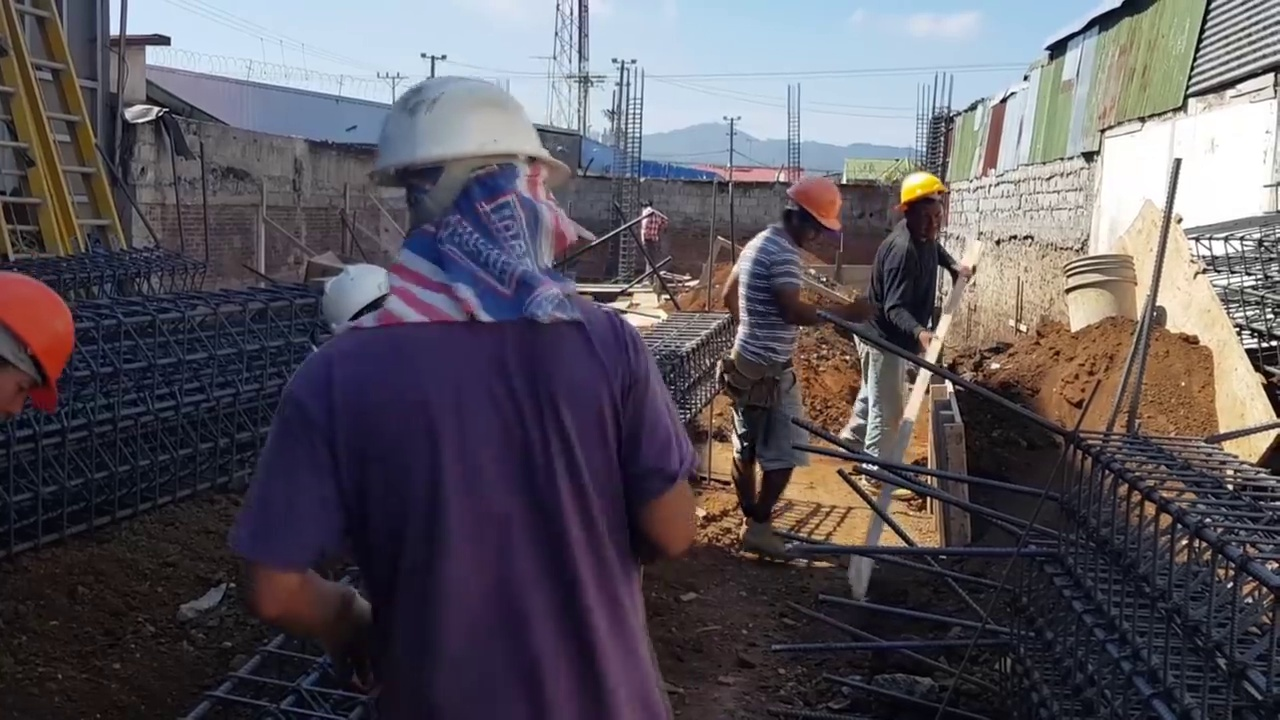helmet: (363, 73, 576, 185), (4, 279, 87, 409), (315, 262, 394, 332), (785, 174, 846, 233), (894, 173, 948, 206)
helmet-off: (641, 200, 654, 210)
helmet-on: (363, 75, 579, 311), (784, 172, 846, 255), (894, 173, 948, 244)
person: (243, 72, 697, 719), (727, 173, 847, 558), (843, 168, 971, 492), (640, 200, 664, 288)
